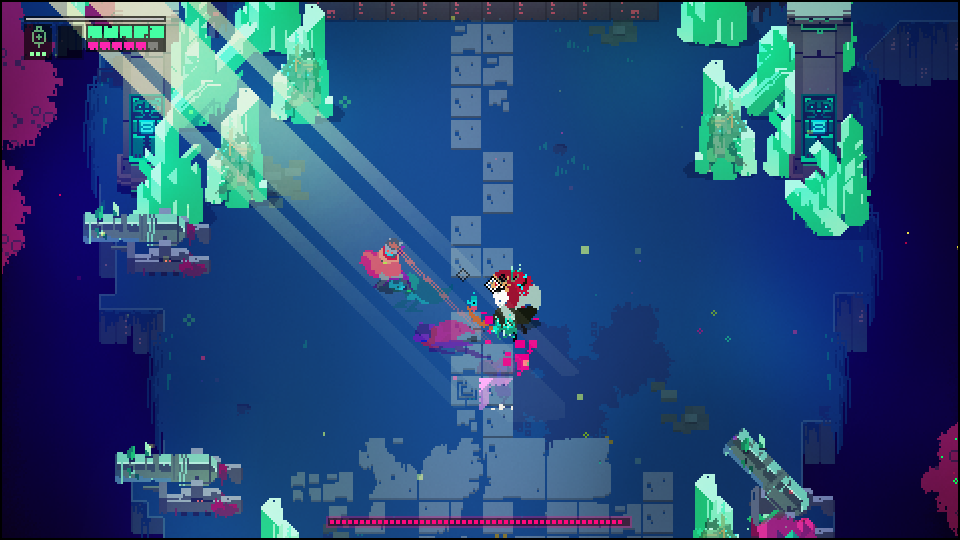hanged_man: (460, 263, 541, 344)
player: (354, 233, 402, 284)
